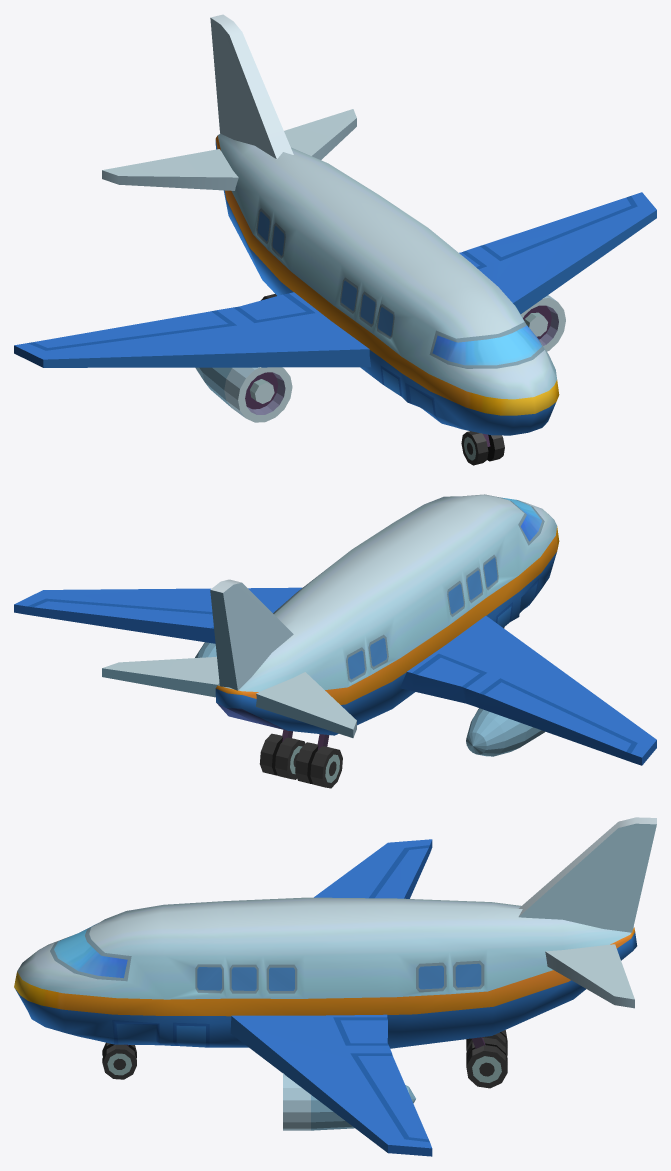
File: FeiJi1_daiji.fbx
The picture shows the model from 3 angles, top to bottom: view 1: azimuth 30°, elevation 25°; view 2: azimuth 150°, elevation 25°; view 3: azimuth 270°, elevation 25°; orthographic projection.
Visible parts, largest first — view 1: 对象003, Box001; view 2: 对象003, Box001; view 3: 对象003, Box001.
Boxes of the visible parts, x1,y1,x2,y2 form: 对象003: [14, 14, 656, 435]; Box001: [261, 294, 504, 465]; 对象003: [14, 494, 656, 765]; Box001: [259, 627, 504, 788]; 对象003: [14, 817, 656, 1156]; Box001: [102, 1030, 507, 1088].
Size of the model in its own units: 761 by 290 by 669.
Materials: 1 (1 with a texture image).
